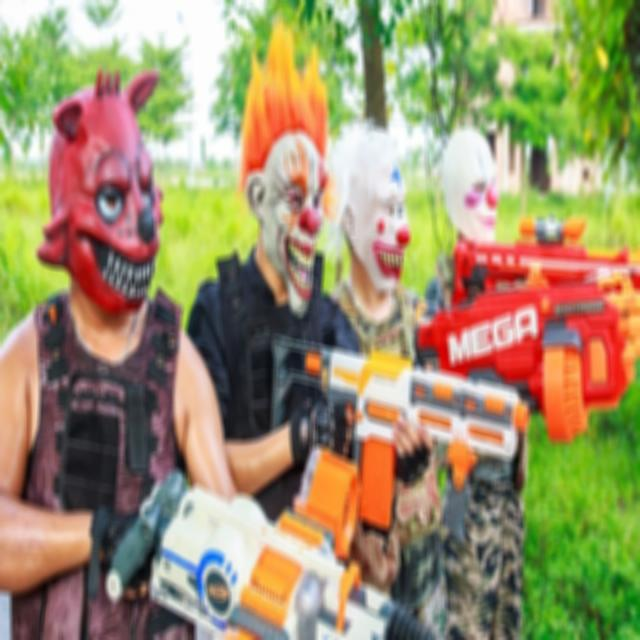Nerf gun: (99, 455, 425, 640), (265, 324, 528, 545), (414, 276, 640, 448), (430, 213, 640, 311)
